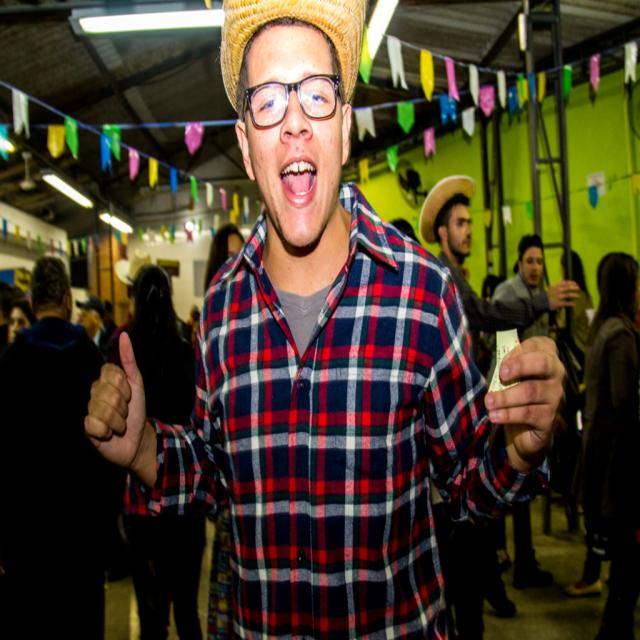Hat: (218, 0, 367, 114), (422, 176, 477, 248)
